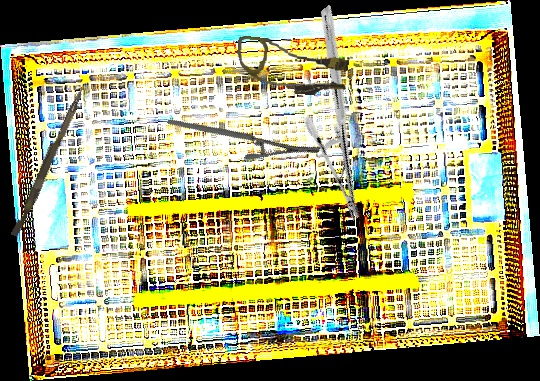Cannula: (233, 35, 351, 99)
Needle Holder: (239, 4, 442, 223), (167, 75, 321, 196)
Pusher: (10, 83, 86, 239)
